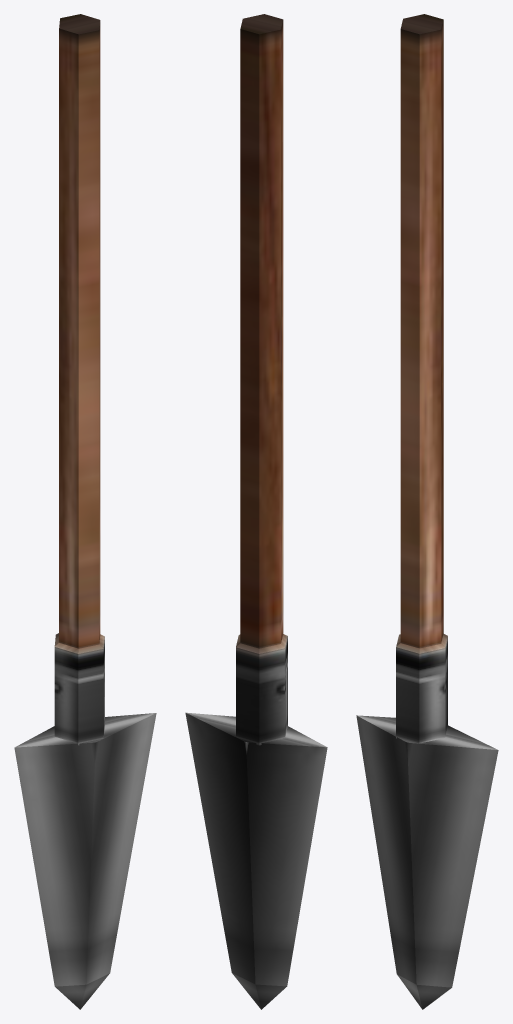
Rendered from spear58_wtf.obj.
The picture shows the model from 3 angles, left to right: view 1: azimuth 30°, elevation 25°; view 2: azimuth 150°, elevation 25°; view 3: azimuth 330°, elevation 25°; orthographic projection.
Parts seen in each view (by area): view 1: group5, group4; view 2: group5, group4; view 3: group5, group4.
Part boxes in pixels (x1,y1,x2,y2): group5: [14, 633, 156, 1009]; group4: [59, 14, 100, 648]; group5: [185, 634, 327, 1009]; group4: [240, 14, 283, 648]; group5: [356, 634, 498, 1009]; group4: [400, 14, 443, 648].
Bounding box in the file's own units: 99.65 × 660 × 37.08.
